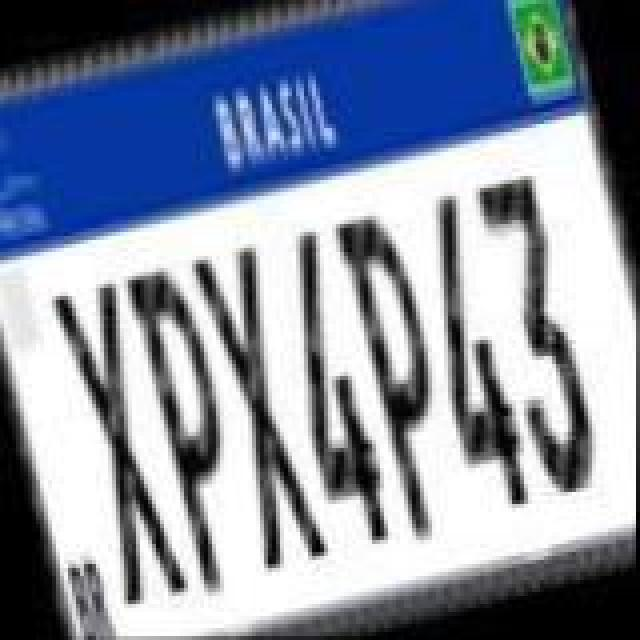3: (468, 162, 608, 502)
4: (264, 222, 400, 558), (402, 188, 538, 524)
P: (120, 252, 264, 596), (340, 208, 476, 544)
X: (48, 274, 192, 614), (192, 238, 336, 574)
